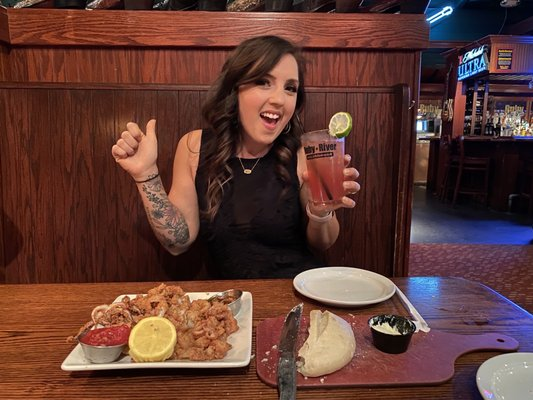sandwich: (277, 303, 300, 400)
sushi: (475, 352, 533, 400), (77, 322, 131, 364), (369, 313, 416, 353)
